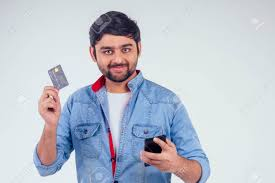Indian_Male: (99, 26, 151, 95)
